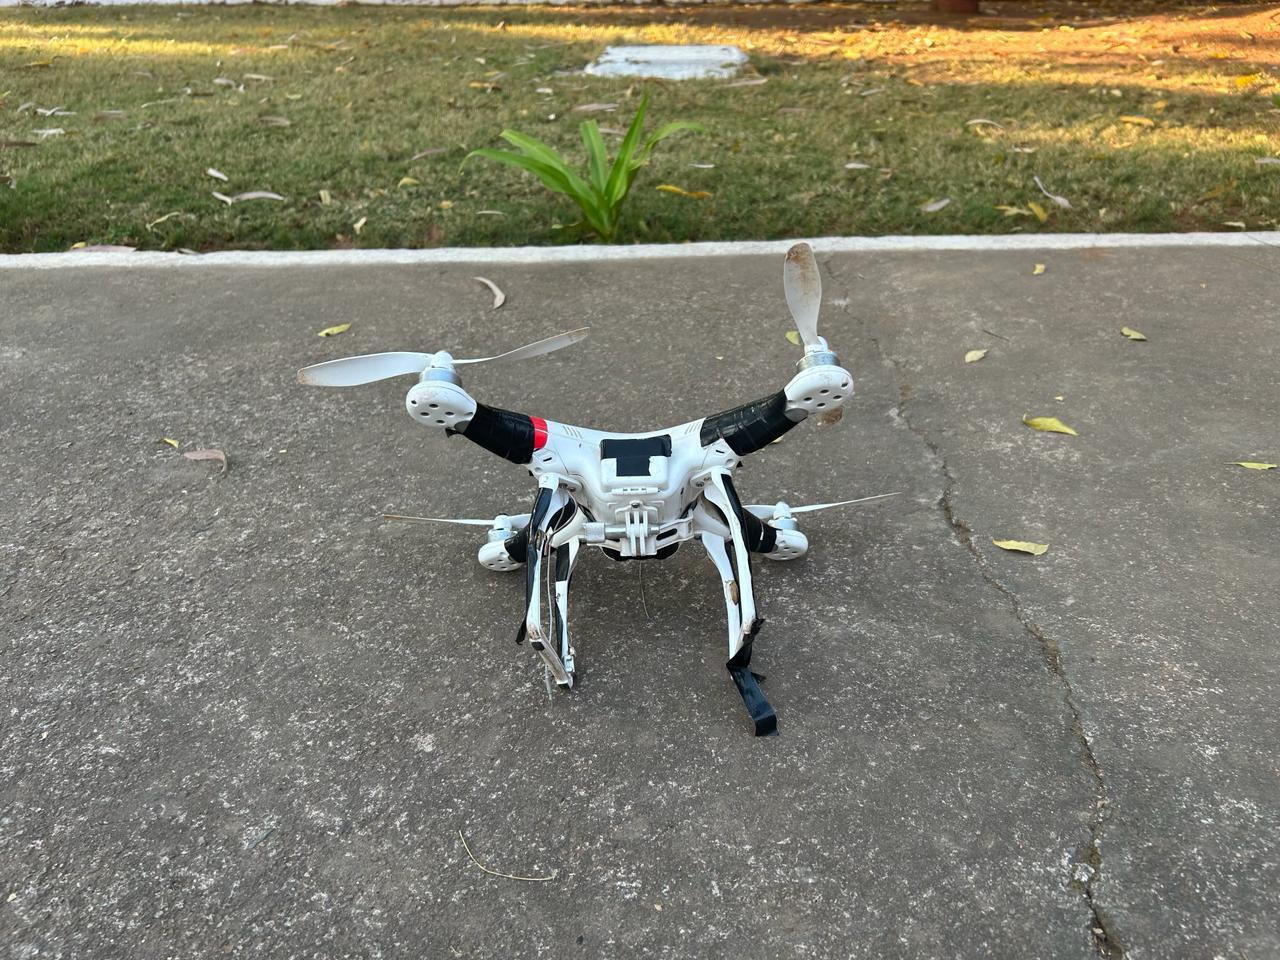drone: (203, 246, 1055, 762)
